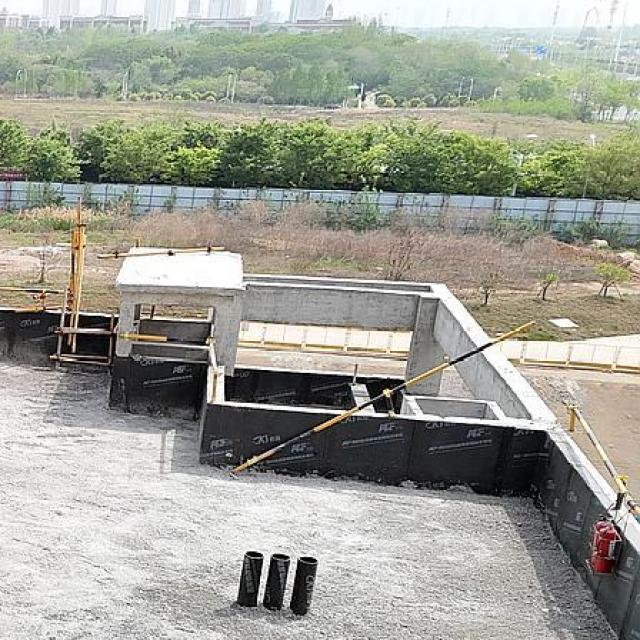edge_guardrail: (229, 319, 538, 477), (561, 398, 640, 516), (119, 333, 218, 401), (1, 286, 65, 310)
